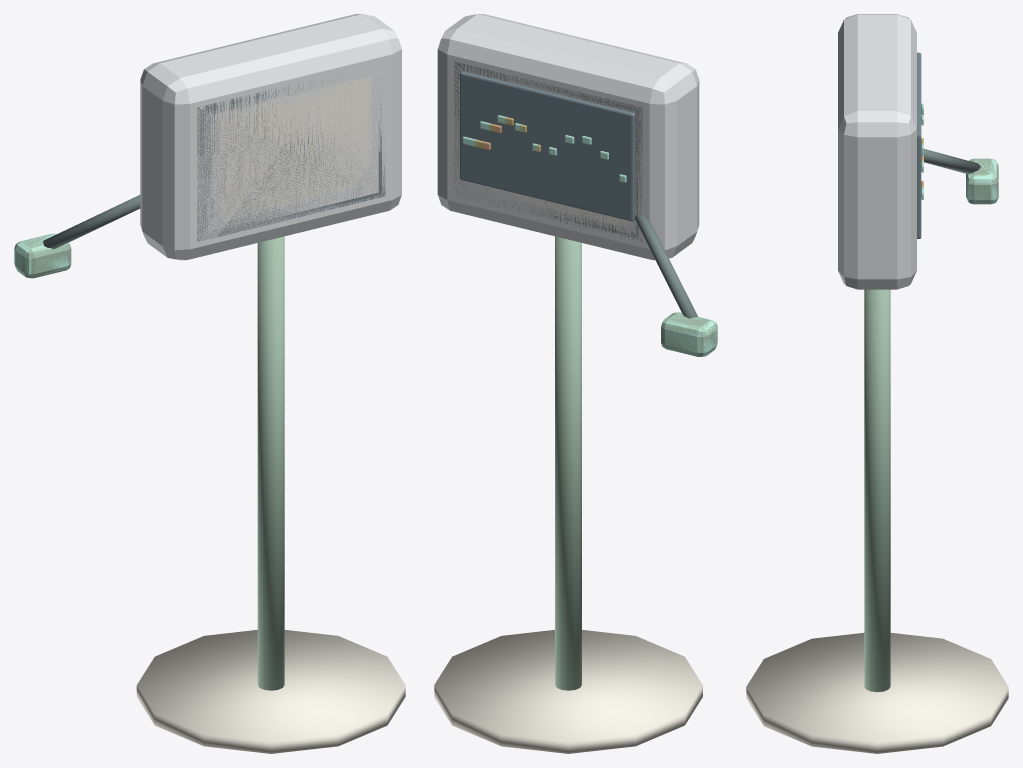
The model's file is Gear11.fbx.
3 renders of one model, left to right at view 1: azimuth 30°, elevation 25°; view 2: azimuth 150°, elevation 25°; view 3: azimuth 270°, elevation 25°, orthographic. The views are drawn at different scales.
Parts seen in each view (by area): view 1: Gear11_V10_Platinum, Gear11_V1_Ivory, Gear11_V1_Sage, Gear11_V2_Ivory, Gear11_V3_Linen, Gear11_V6_Platinum, Gear11_V8_Graphite, Gear11_V7_Graphite, Gear11_V4_Linen, Gear11_V9_Platinum, Gear11_V1_Ink, Gear11_V5_Platinum (+1 smaller); view 2: Gear11_V10_Platinum, Gear11_V1_Ivory, Gear11_V10_Glass, Gear11_V1_Sage, Gear11_V1_Glass, Gear11_V7_Glass, Gear11_V3_Glass, Gear11_V8_Graphite, Gear11_V10_Glow, Gear11_V7_Graphite, Gear11_V1_Ink, Gear11_V8_Glow (+8 smaller); view 3: Gear11_V1_Ivory, Gear11_V10_Platinum, Gear11_V1_Sage, Gear11_V10_Glass, Gear11_V10_Glow, Gear11_V1_Ink, Gear11_V3_Sage.
Boxes of the visible parts, <box> form: Gear11_V10_Platinum: <box>140,14,401,260</box>; Gear11_V1_Ivory: <box>136,89,405,753</box>; Gear11_V1_Sage: <box>16,234,284,690</box>; Gear11_V2_Ivory: <box>218,95,364,220</box>; Gear11_V3_Linen: <box>214,79,367,223</box>; Gear11_V6_Platinum: <box>204,73,378,232</box>; Gear11_V8_Graphite: <box>197,81,385,242</box>; Gear11_V7_Graphite: <box>200,77,381,236</box>; Gear11_V4_Linen: <box>211,75,371,218</box>; Gear11_V9_Platinum: <box>193,58,388,244</box>; Gear11_V1_Ink: <box>43,195,140,249</box>; Gear11_V5_Platinum: <box>207,72,374,230</box>; Gear11_V10_Platinum: <box>437,14,699,260</box>; Gear11_V1_Ivory: <box>434,630,702,753</box>; Gear11_V10_Glass: <box>460,71,635,221</box>; Gear11_V1_Sage: <box>555,236,717,690</box>; Gear11_V1_Glass: <box>483,95,608,199</box>; Gear11_V7_Glass: <box>468,81,623,212</box>; Gear11_V3_Glass: <box>478,91,613,203</box>; Gear11_V8_Graphite: <box>454,61,642,241</box>; Gear11_V10_Glow: <box>462,115,716,356</box>; Gear11_V7_Graphite: <box>457,67,638,238</box>; Gear11_V1_Ink: <box>635,214,697,318</box>; Gear11_V8_Glow: <box>468,116,717,356</box>; Gear11_V1_Ivory: <box>746,633,1008,753</box>; Gear11_V10_Platinum: <box>838,14,916,289</box>; Gear11_V1_Sage: <box>864,159,998,692</box>; Gear11_V10_Glass: <box>917,52,921,238</box>; Gear11_V10_Glow: <box>921,103,998,204</box>; Gear11_V1_Ink: <box>921,149,980,174</box>; Gear11_V3_Sage: <box>966,163,998,204</box>.
Size of the model in its own units: 54.4 by 107 by 40.
